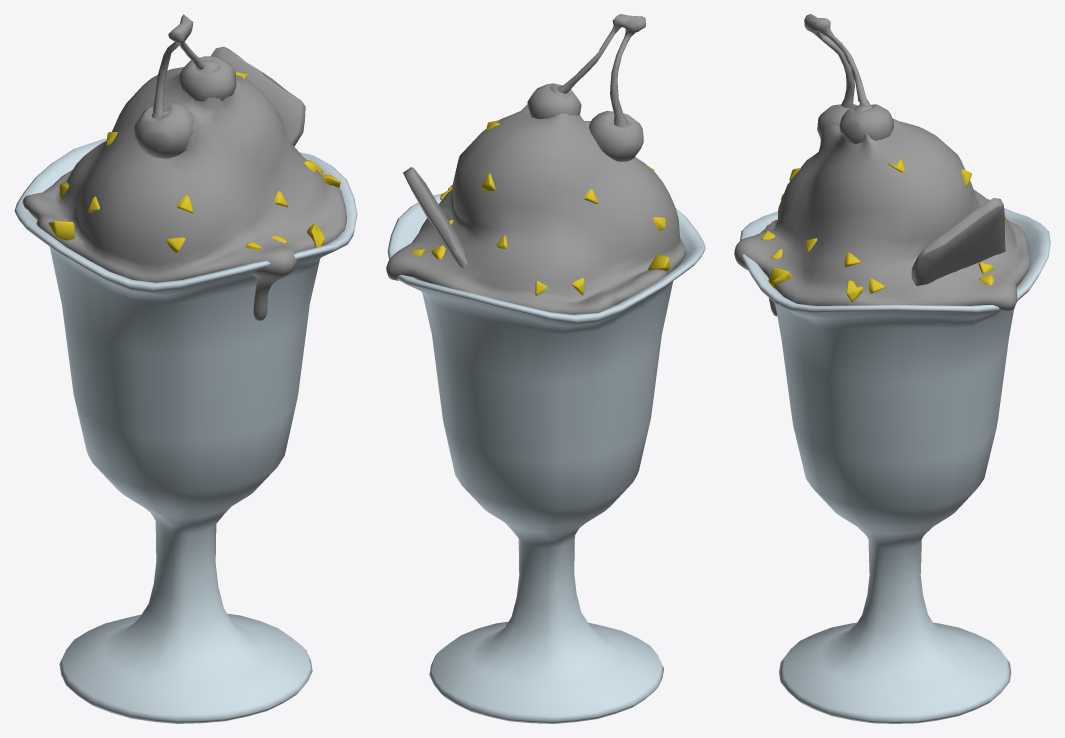
Rendered from Glass 1.fbx.
3 renders of one model, left to right at view 1: azimuth 30°, elevation 25°; view 2: azimuth 150°, elevation 25°; view 3: azimuth 270°, elevation 25°, orthographic. The views are drawn at different scales.
Parts seen in each view (by area): view 1: Glass_LP, Ice_LP, GeoSphere003; view 2: Glass_LP, Ice_LP, GeoSphere003; view 3: Glass_LP, Ice_LP, GeoSphere003.
Boxes of the visible parts, x1,y1,x2,y2 form: Glass_LP: (14, 138, 357, 723); Ice_LP: (22, 14, 346, 320); GeoSphere003: (48, 71, 340, 252); Glass_LP: (387, 193, 705, 723); Ice_LP: (386, 14, 686, 314); GeoSphere003: (410, 120, 670, 295); Glass_LP: (740, 208, 1050, 723); Ice_LP: (734, 14, 1030, 316); GeoSphere003: (761, 158, 1008, 302).
Size of the model in its own units: 105 by 238 by 106.
